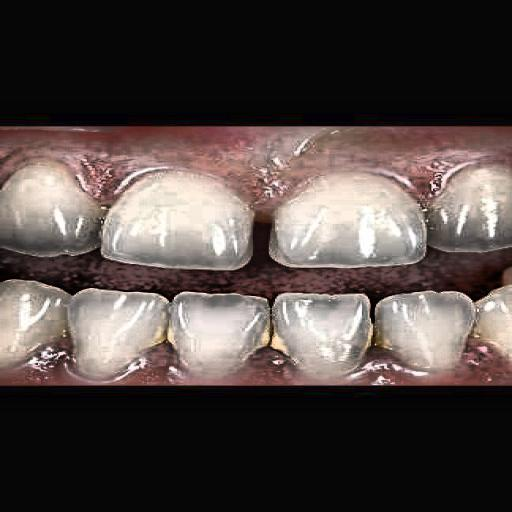Healthy: (2, 120, 474, 330)
